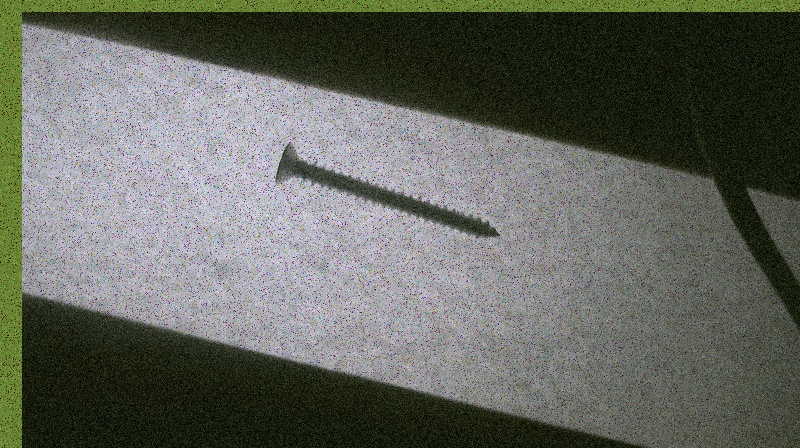S002: (270, 139, 503, 240)
